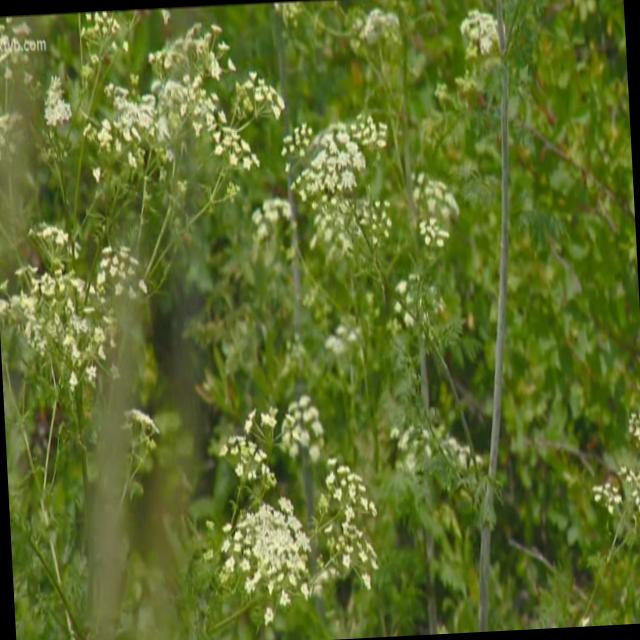Poisonous-Hemlock: (0, 1, 300, 409), (286, 0, 551, 430), (206, 403, 382, 640), (576, 404, 640, 626)
